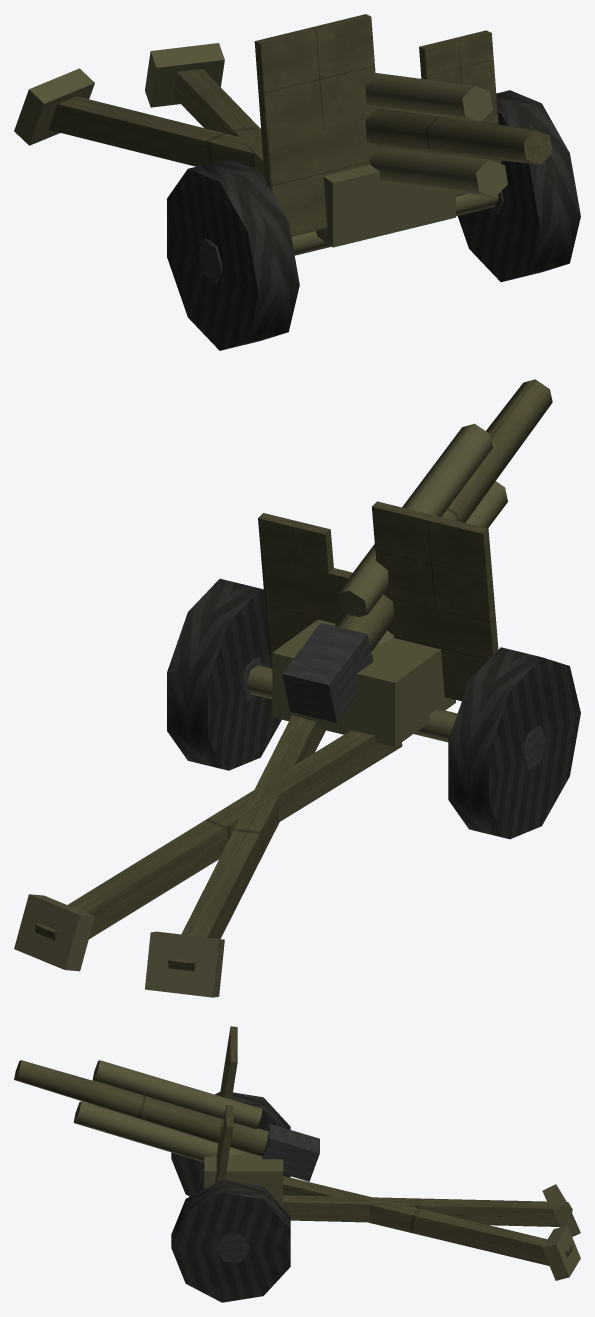
File: howitzer_m101_105mm_lod2.glb
3 views of the same model, one above another, from view 1: azimuth 30°, elevation 25°; view 2: azimuth 150°, elevation 25°; view 3: azimuth 270°, elevation 25° (orthographic). The views are drawn at different scales.
Visible parts, largest first — view 1: Howitzer_105mm_M101A1; view 2: Howitzer_105mm_M101A1; view 3: Howitzer_105mm_M101A1.
Part boxes in pixels (left/top/right/bottom): Howitzer_105mm_M101A1: left=14, top=14, right=580, bottom=350; Howitzer_105mm_M101A1: left=14, top=379, right=580, bottom=997; Howitzer_105mm_M101A1: left=14, top=1026, right=580, bottom=1302.
Size of the model in its own units: 2.22 by 1.92 by 5.16.
Materials: 4 (3 with a texture image).
